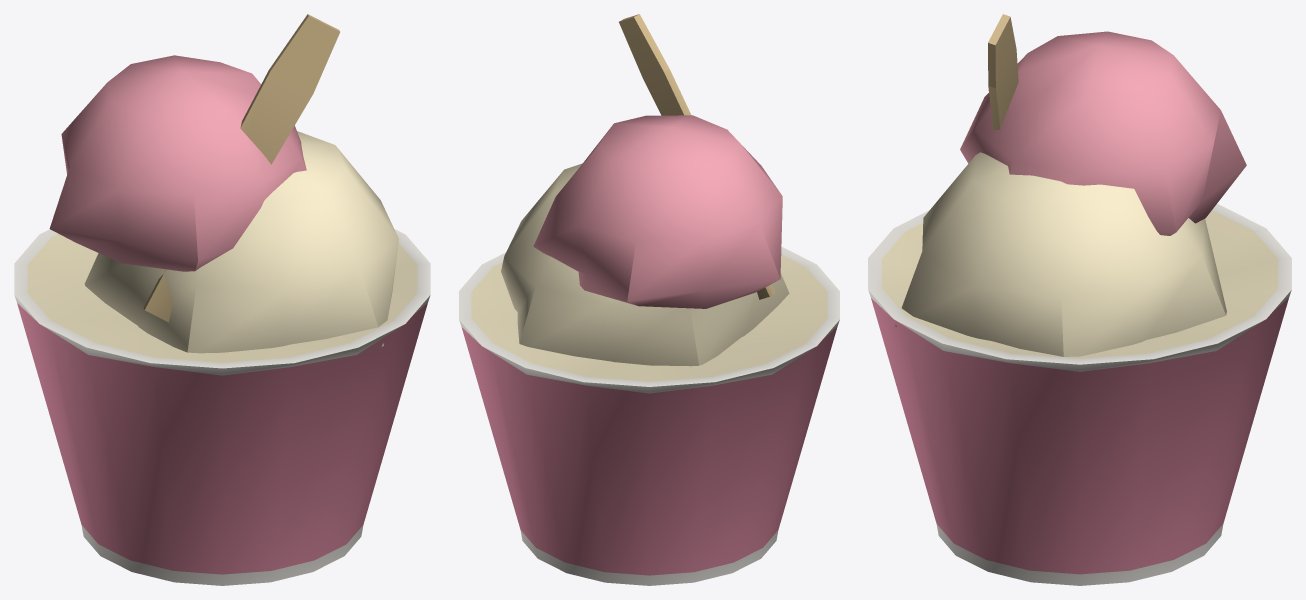
File: iceCreamCup.glb
3 views of the same model, side by side, from view 1: azimuth 30°, elevation 25°; view 2: azimuth 150°, elevation 25°; view 3: azimuth 270°, elevation 25° (orthographic). The views are drawn at different scales.
Visible parts, largest first — view 1: iceCreamCup; view 2: iceCreamCup; view 3: iceCreamCup.
Part boxes in pixels (bbox=[...]): iceCreamCup: bbox=[14, 14, 430, 585]; iceCreamCup: bbox=[459, 14, 839, 585]; iceCreamCup: bbox=[868, 14, 1291, 585].
Size of the model in its own units: 0.093 by 0.1277 by 0.0916.
